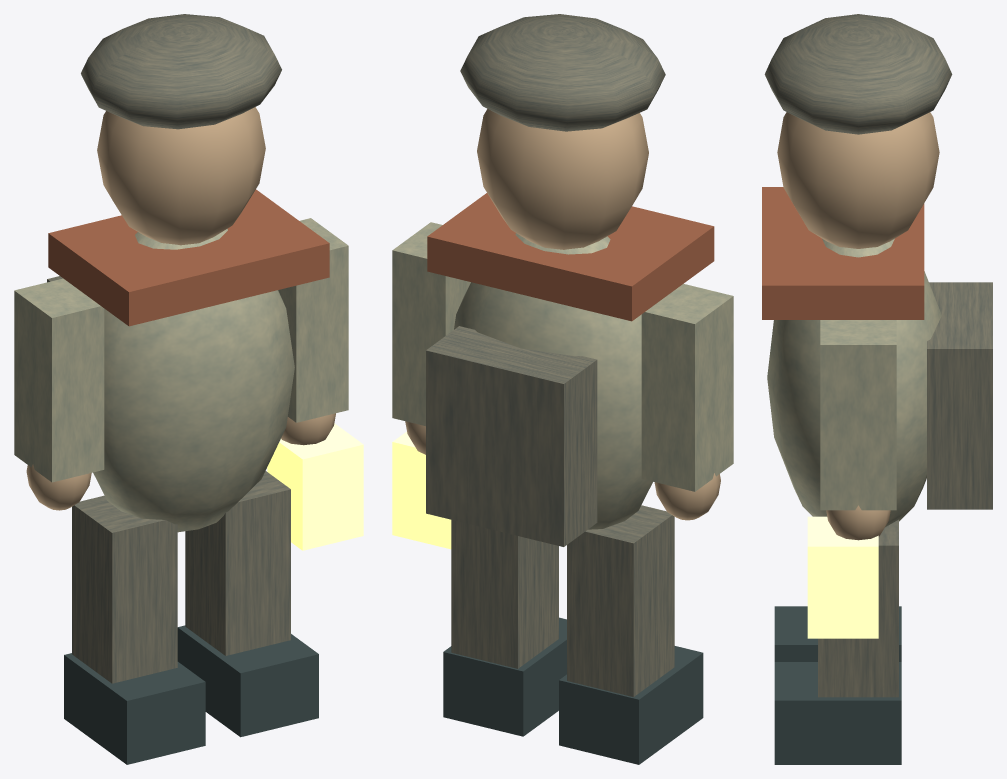
The model's file is traveler.glb.
3 renders of one model, left to right at view 1: azimuth 30°, elevation 25°; view 2: azimuth 150°, elevation 25°; view 3: azimuth 270°, elevation 25°, orthographic. The views are drawn at different scales.
Visible parts, largest first — view 1: Linen coat, Scarf, Soft cap, Left trousers, Head, Left sleeve, Right trousers, Left boot, Right boot, Right sleeve, Held lantern, Left hand (+1 smaller); view 2: Satchel, Scarf, Soft cap, Left trousers, Head, Left sleeve, Linen coat, Right trousers, Left boot, Right sleeve, Right boot, Held lantern (+1 smaller); view 3: Soft cap, Head, Linen coat, Right sleeve, Scarf, Satchel, Right boot, Held lantern, Right trousers, Left boot, Right hand.
Boxes of the visible parts, bbox=[...] form: Linen coat: bbox=[93, 229, 294, 532]; Scarf: bbox=[48, 189, 329, 326]; Soft cap: bbox=[81, 14, 281, 129]; Left trousers: bbox=[72, 495, 177, 683]; Head: bbox=[97, 107, 265, 245]; Left sleeve: bbox=[14, 278, 104, 482]; Right trousers: bbox=[185, 471, 290, 655]; Left boot: bbox=[64, 653, 205, 764]; Right boot: bbox=[177, 625, 318, 737]; Right sleeve: bbox=[278, 218, 348, 422]; Held lantern: bbox=[267, 423, 363, 550]; Left hand: bbox=[26, 464, 91, 510]; Satchel: bbox=[426, 326, 597, 546]; Scarf: bbox=[427, 193, 714, 321]; Soft cap: bbox=[460, 14, 665, 131]; Left trousers: bbox=[567, 505, 674, 696]; Head: bbox=[477, 109, 648, 249]; Left sleeve: bbox=[641, 284, 733, 491]; Linen coat: bbox=[454, 233, 652, 529]; Right trousers: bbox=[451, 520, 558, 668]; Left boot: bbox=[559, 646, 703, 764]; Right sleeve: bbox=[392, 222, 470, 426]; Right boot: bbox=[443, 617, 566, 736]; Held lantern: bbox=[392, 431, 451, 549]; Soft cap: bbox=[764, 14, 952, 134]; Head: bbox=[777, 112, 939, 248]; Linen coat: bbox=[767, 238, 941, 526]; Right sleeve: bbox=[820, 320, 896, 510]; Scarf: bbox=[762, 187, 924, 319]; Satchel: bbox=[927, 282, 992, 509]; Right boot: bbox=[774, 662, 901, 764]; Held lantern: bbox=[807, 516, 878, 638]; Right trousers: bbox=[818, 519, 898, 697]; Left boot: bbox=[774, 606, 901, 661]; Right hand: bbox=[826, 505, 890, 540].
Size of the model in its own units: 0.705 by 1.49 by 0.455.
6 materials, 2 textured.
